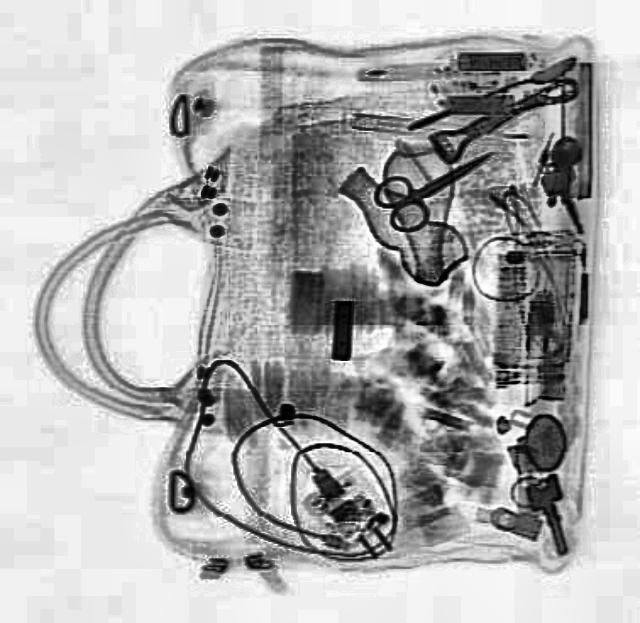Scissors: (362, 128, 510, 238)
